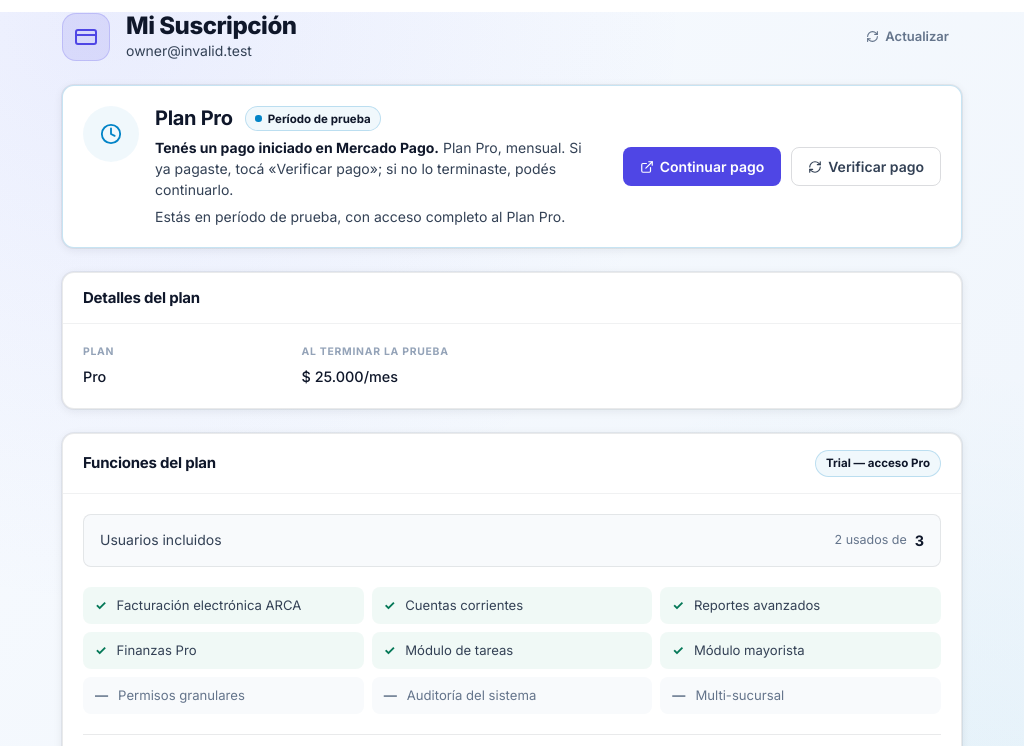
«Continuar pago»: los caminos que no terminan en el checkout › el pago ya se registró en Mercado Pago → muestra el mensaje del servidor, que manda a «Verificar pago»
The image size is (1024, 746).
Click the button "Continuar pago".
click(702, 167)  # box [623,147,781,186]
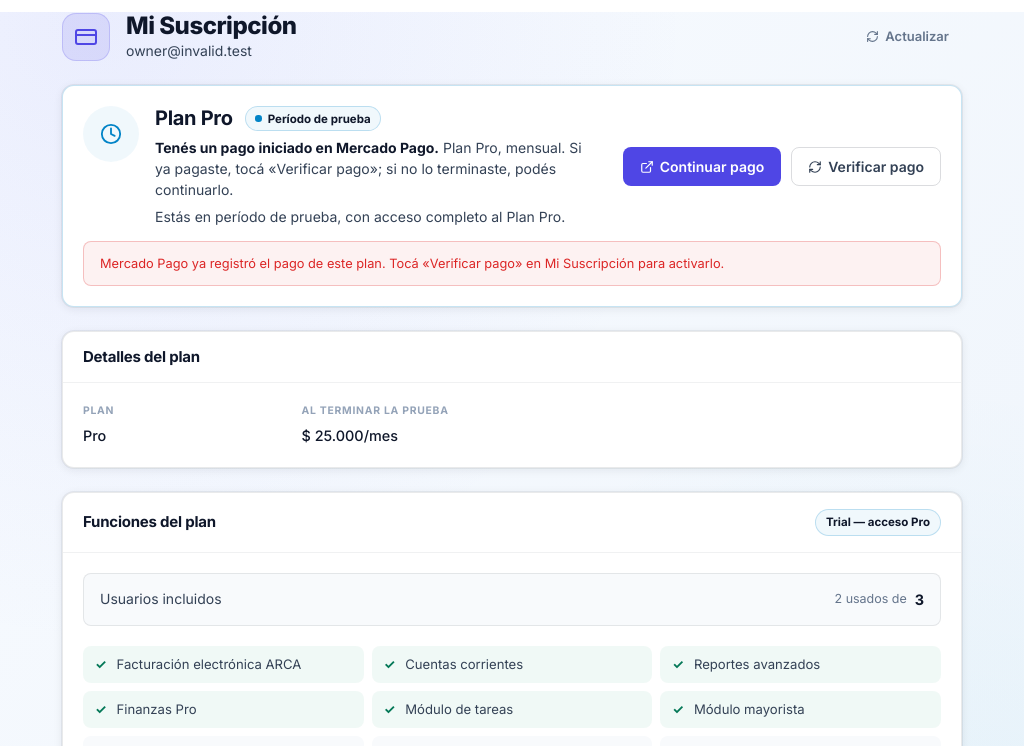
Check: the button "Verificar pago" is shown, box [791,147,941,186]
Check: the message with test id "subscription-manage-error" shows "Mercado Pago ya registró el pago de este plan.", box [100,256,724,271]
